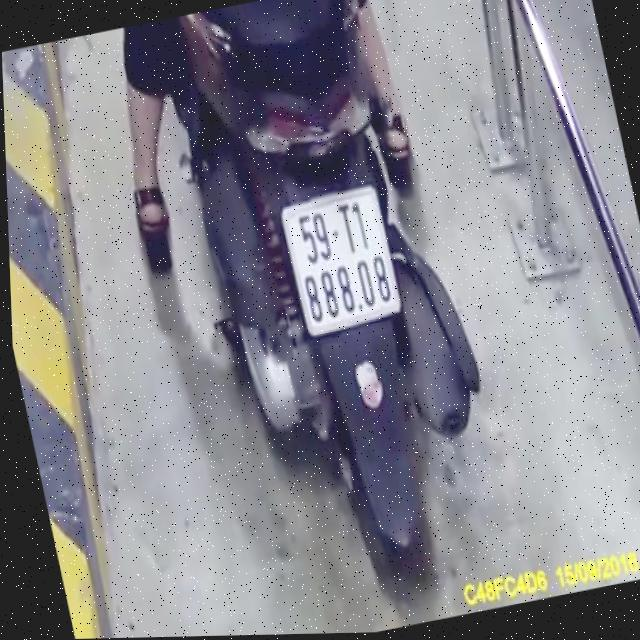motorcycle: (140, 0, 523, 612)
plate: (271, 183, 401, 335)
